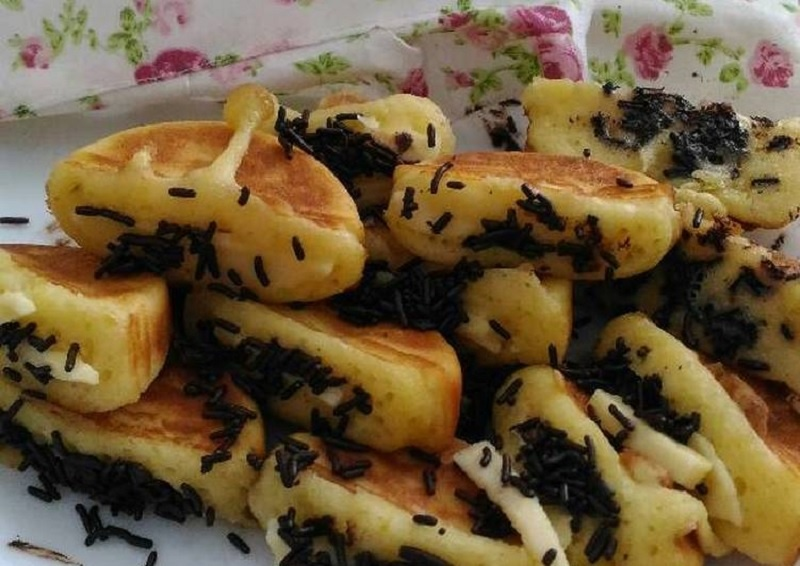pukis: (45, 92, 350, 292)
